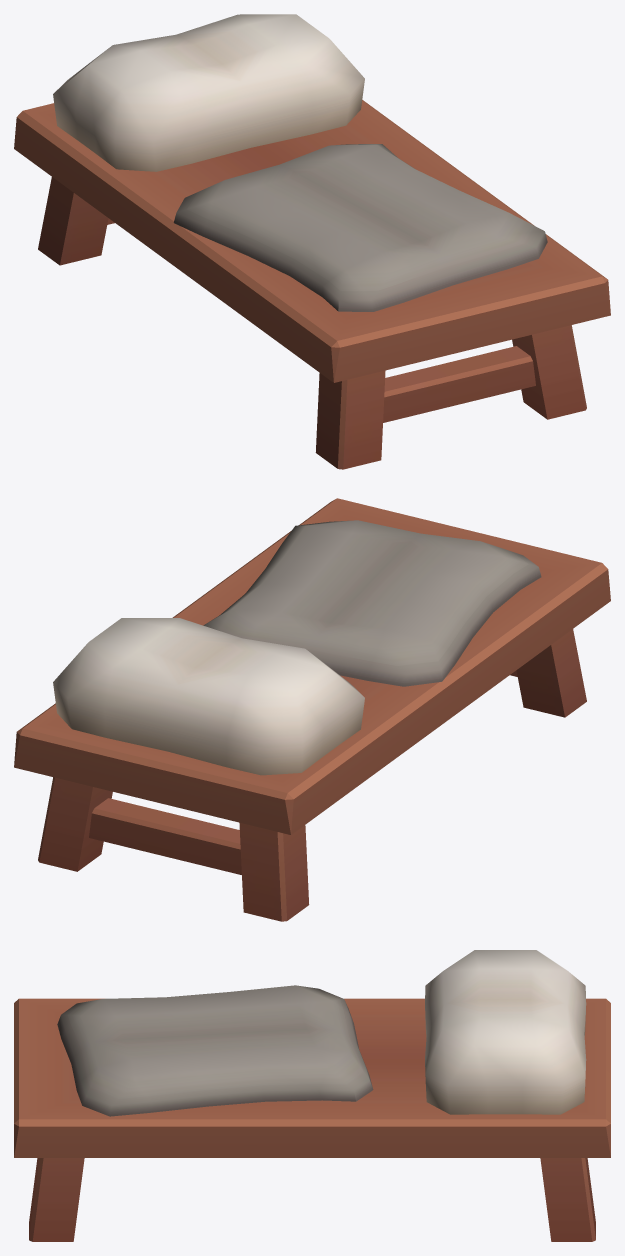
Rendered from bed_frame.glb.
3 views of the same model, one above another, from view 1: azimuth 30°, elevation 25°; view 2: azimuth 150°, elevation 25°; view 3: azimuth 270°, elevation 25° (orthographic). The views are drawn at different scales.
Parts seen in each view (by area): view 1: bed_frame; view 2: bed_frame; view 3: bed_frame.
Part boxes in pixels (left/top/right/bottom): bed_frame: left=14, top=14, right=610, bottom=469; bed_frame: left=14, top=498, right=610, bottom=921; bed_frame: left=14, top=950, right=610, bottom=1241.
Size of the model in its own units: 1.5 by 1.06 by 3.
Materials: 1 (1 with a texture image).
